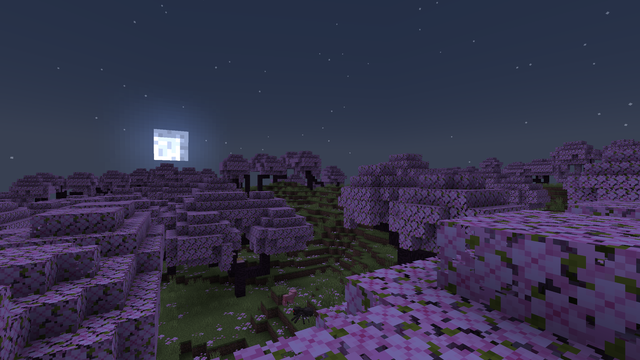araignees: (290, 301, 312, 323)
cochons: (283, 290, 293, 305)
